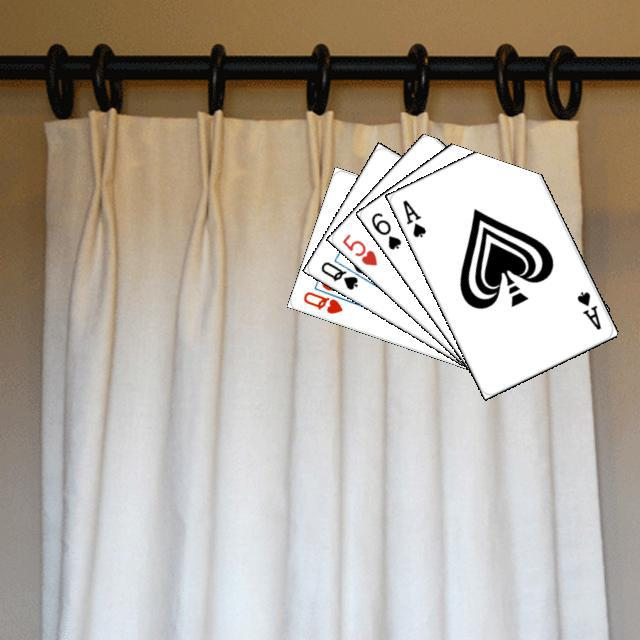5h: (337, 229, 379, 267)
6s: (366, 207, 403, 252)
As: (572, 286, 603, 332), (397, 195, 428, 239)
Qh: (298, 286, 345, 316)
Qs: (316, 256, 360, 292)
